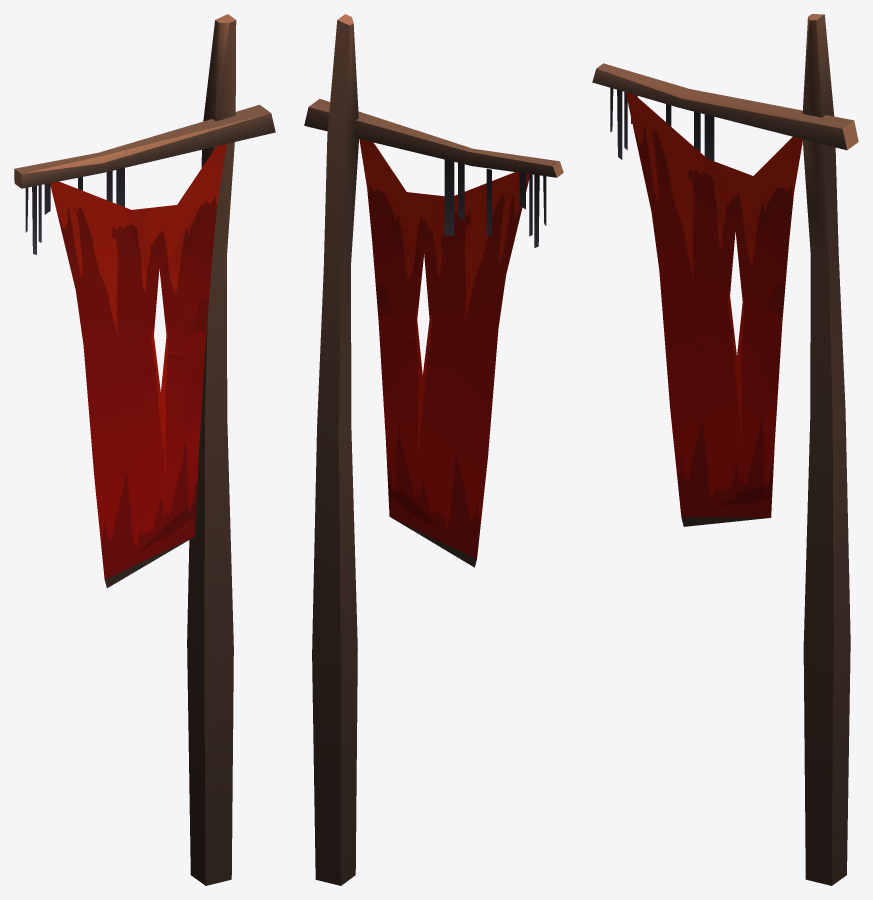
File: Flag_Pole_1C.fbx
3 renders of one model, left to right at view 1: azimuth 30°, elevation 25°; view 2: azimuth 150°, elevation 25°; view 3: azimuth 330°, elevation 25°, orthographic. The views are drawn at different scales.
Parts seen in each view (by area): view 1: Flag_Pole_1C; view 2: Flag_Pole_1C; view 3: Flag_Pole_1C.
Boxes of the visible parts, bbox=[...] form: Flag_Pole_1C: bbox=[14, 14, 275, 885]; Flag_Pole_1C: bbox=[304, 14, 563, 885]; Flag_Pole_1C: bbox=[592, 14, 858, 885].
Bounding box in the file's own units: 105 × 344 × 22.43.
